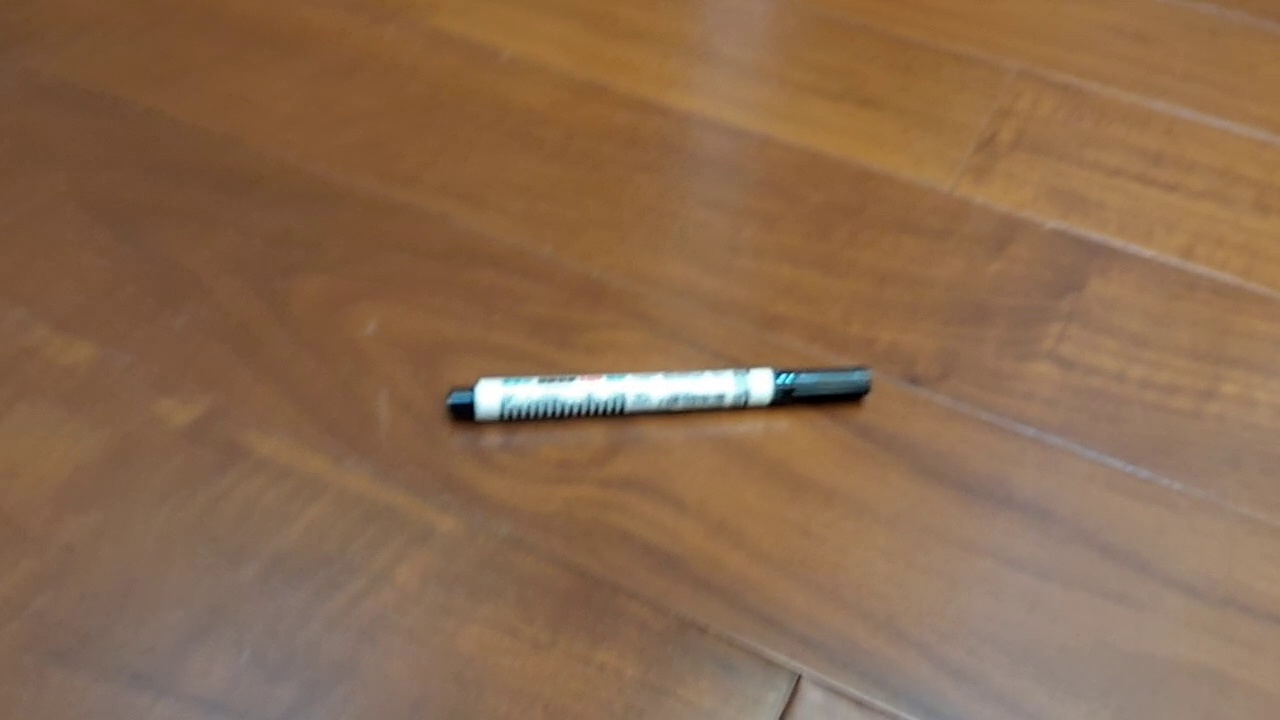pen: (445, 362, 873, 425)
